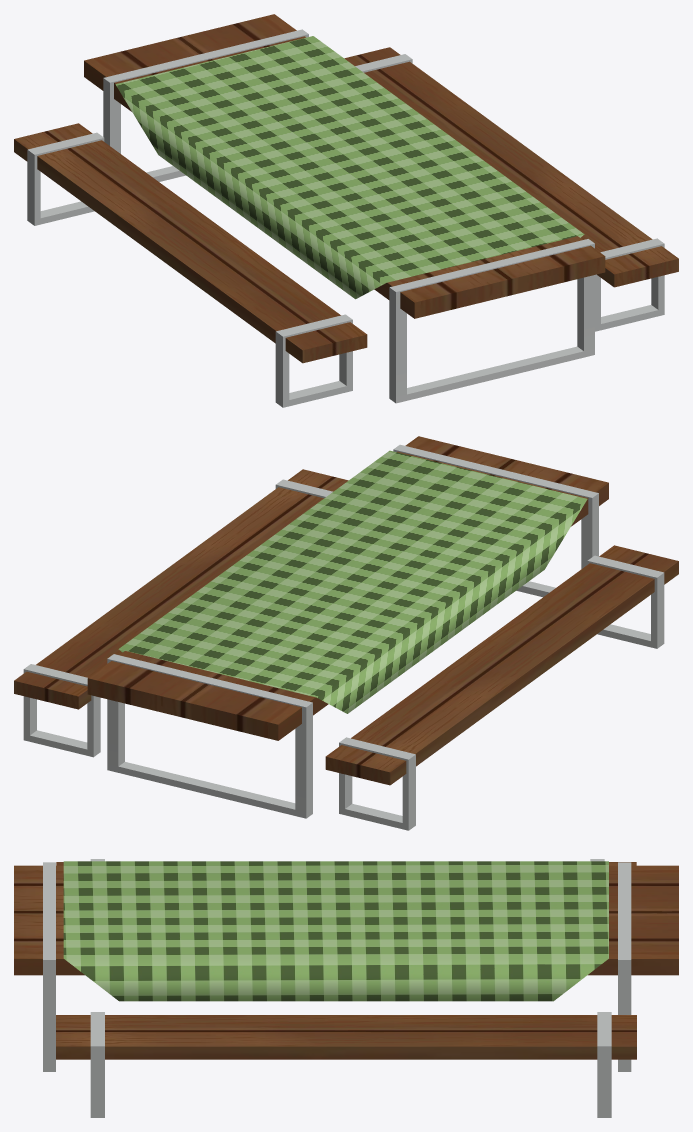
Rendered from table-dinner.glb.
3 views of the same model, one above another, from view 1: azimuth 30°, elevation 25°; view 2: azimuth 150°, elevation 25°; view 3: azimuth 270°, elevation 25° (orthographic).
Visible parts, largest first — view 1: Table_Dinner; view 2: Table_Dinner; view 3: Table_Dinner.
Boxes of the visible parts, x1,y1,x2,y2 form: Table_Dinner: (14, 14, 678, 407); Table_Dinner: (14, 436, 678, 830); Table_Dinner: (14, 859, 678, 1117).
Size of what is drawn, in the model's own units: 3.58 by 1.01 by 5.37.
3 materials, 3 textured.
